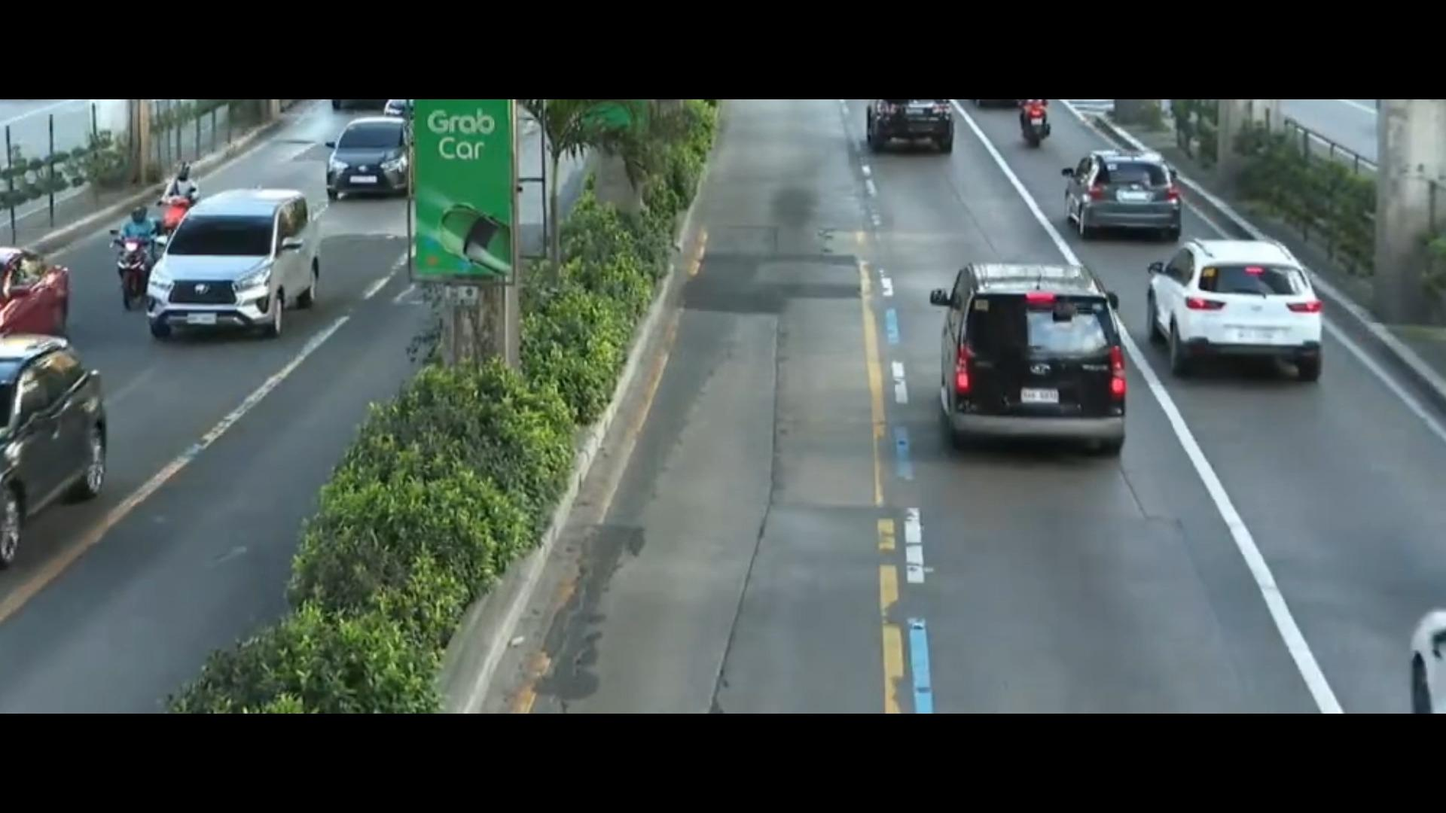Motorcycle: (104, 196, 158, 310), (161, 158, 207, 224)
SUV: (1134, 224, 1386, 391), (140, 185, 334, 355)
Sedan: (0, 337, 140, 563), (1043, 136, 1211, 238), (0, 232, 89, 340), (322, 104, 410, 201)
Van: (910, 232, 1157, 495)
